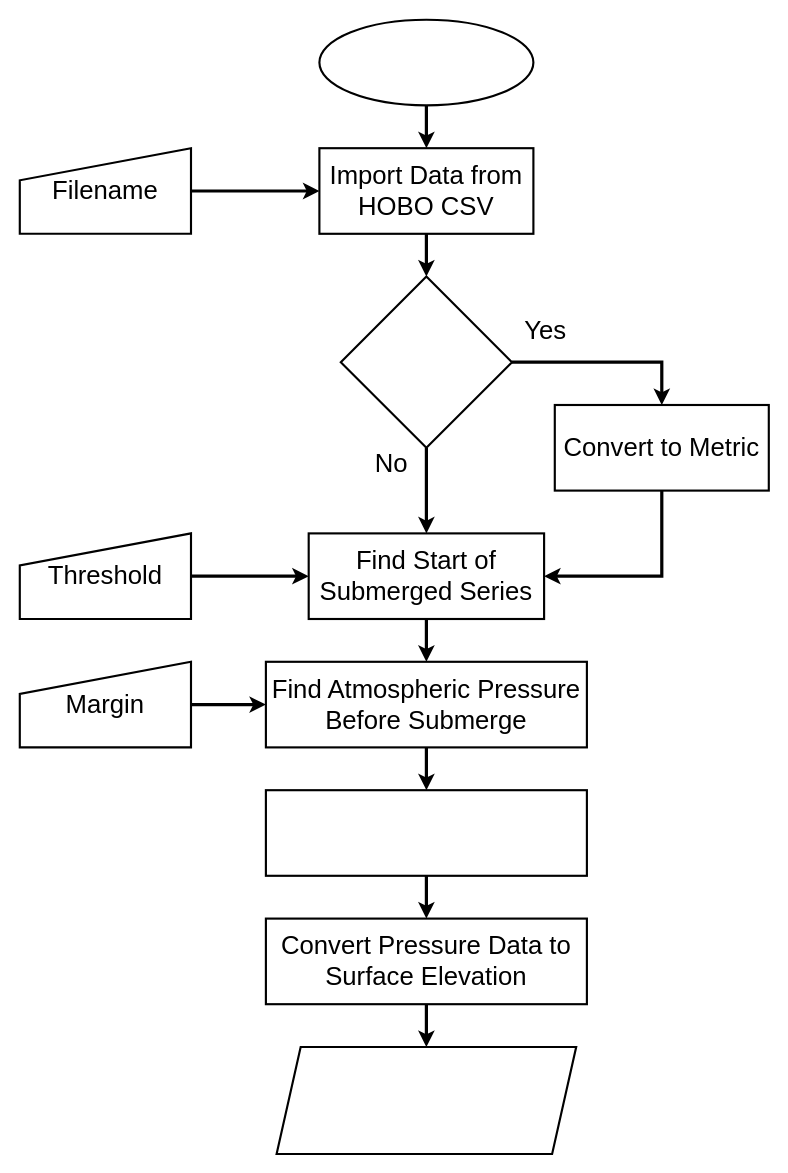
Image size: 788x1173. Some labels were removed from this diagram. The shapes that lost their labels are listed below. From the top down, each one's centre as x and y in pixels, then its label:
(x=426, y=62): Start
(x=426, y=361): Is Data in Imperial?
(x=425, y=832): Convert Pressure Data to Gauage Pressure
(x=426, y=1100): Return table of times, pressure, and surface
